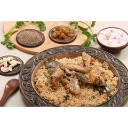briyani: (39, 56, 114, 100)
